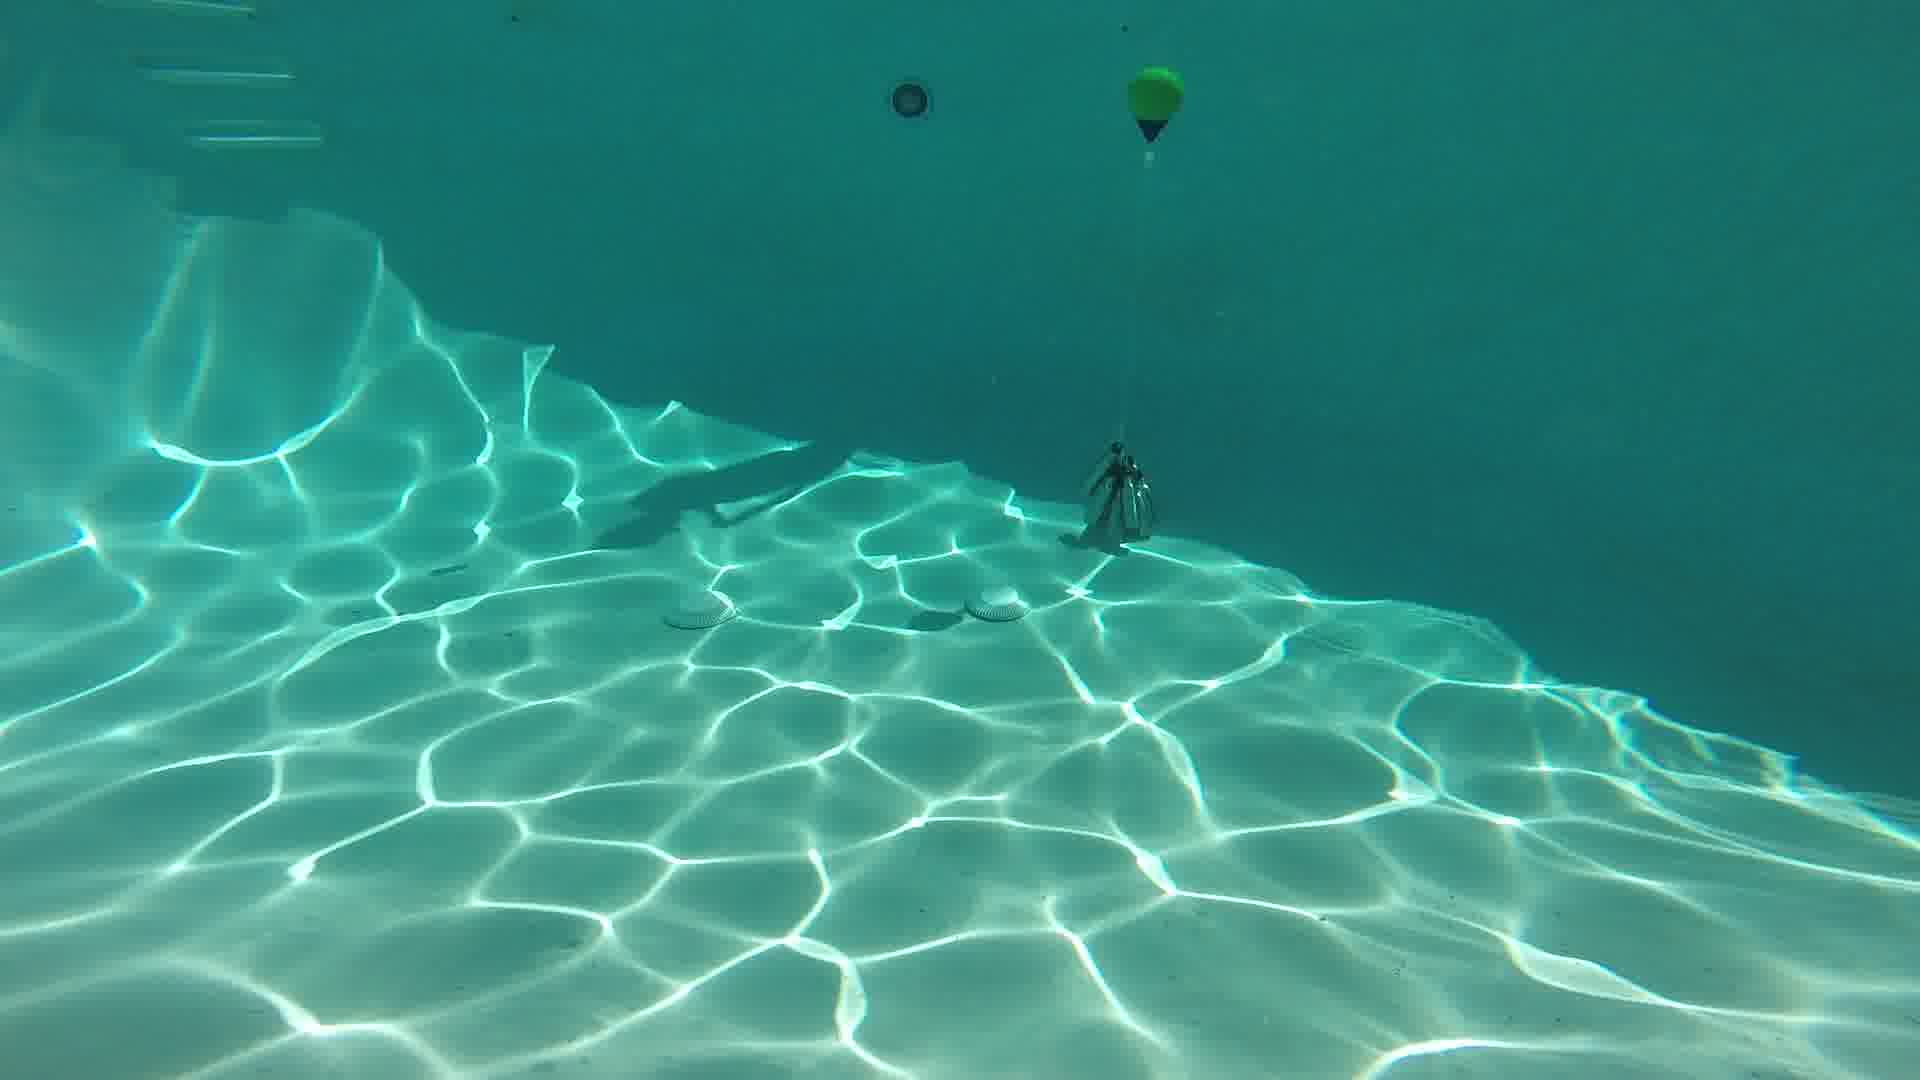yellow_buoy: (1129, 65, 1183, 144)
